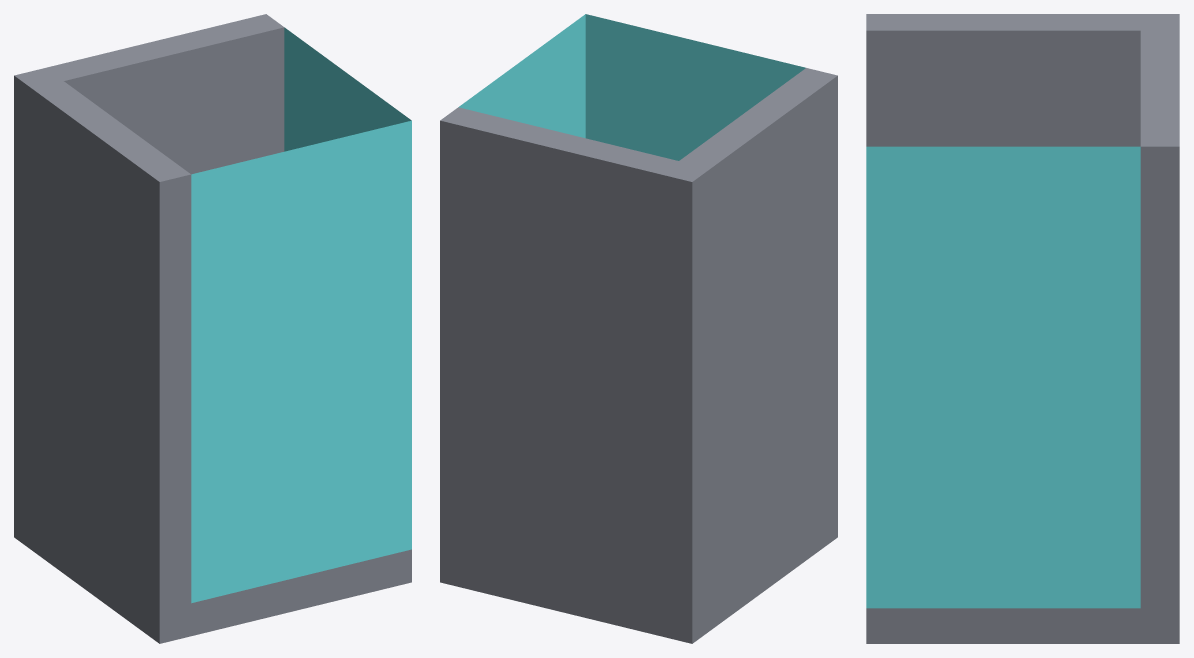
Rendered from shower.fbx.
3 renders of one model, left to right at view 1: azimuth 30°, elevation 25°; view 2: azimuth 150°, elevation 25°; view 3: azimuth 270°, elevation 25°, orthographic. The views are drawn at different scales.
Parts seen in each view (by area): view 1: polySurface3; view 2: polySurface3; view 3: polySurface3.
Part boxes in pixels (box(x1,y1,x2,y2)): polySurface3: box(14, 14, 411, 643); polySurface3: box(440, 14, 837, 643); polySurface3: box(866, 14, 1179, 643).
Bounding box in the file's own units: 10 × 17.5 × 10.
Materials: 1 (1 with a texture image).
